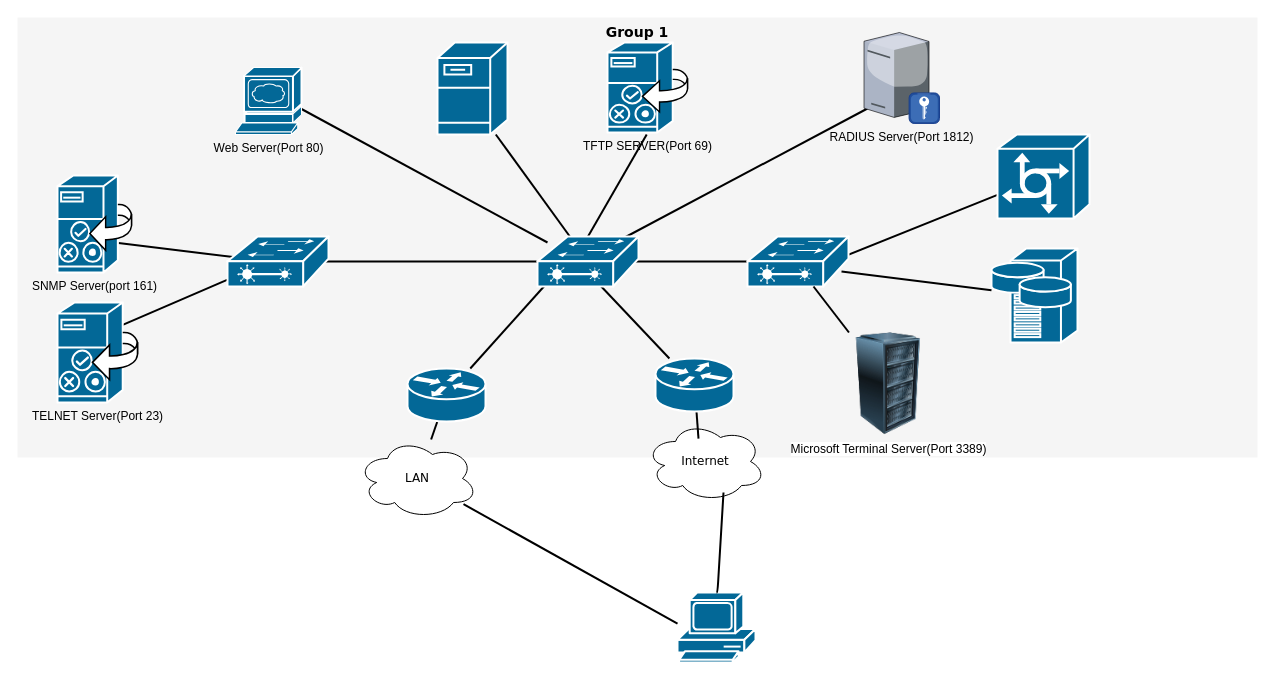
Image size: 1274x700. Some labels were removed from this diagram. The shapes that lost their labels are listed below. From the top down, each one's centre as x and y in pixels, then its label:
pixel 472 88: FTP Server(Port 21)
pixel 1043 176: SSH Server(Port 22)
pixel 1034 295: MySQL Server(Port 3306)
pixel 716 627: Network Admin
